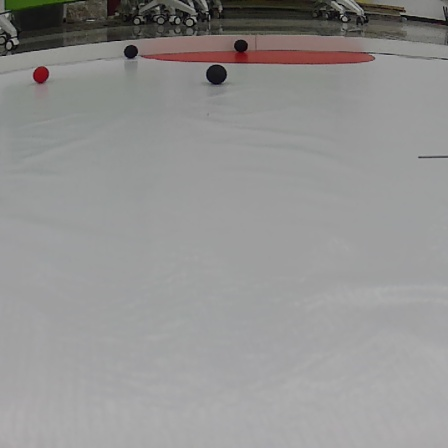black: (198, 64, 233, 84), (123, 43, 140, 61), (230, 40, 249, 52)
red: (30, 63, 55, 86)
red_base: (138, 44, 383, 68)
